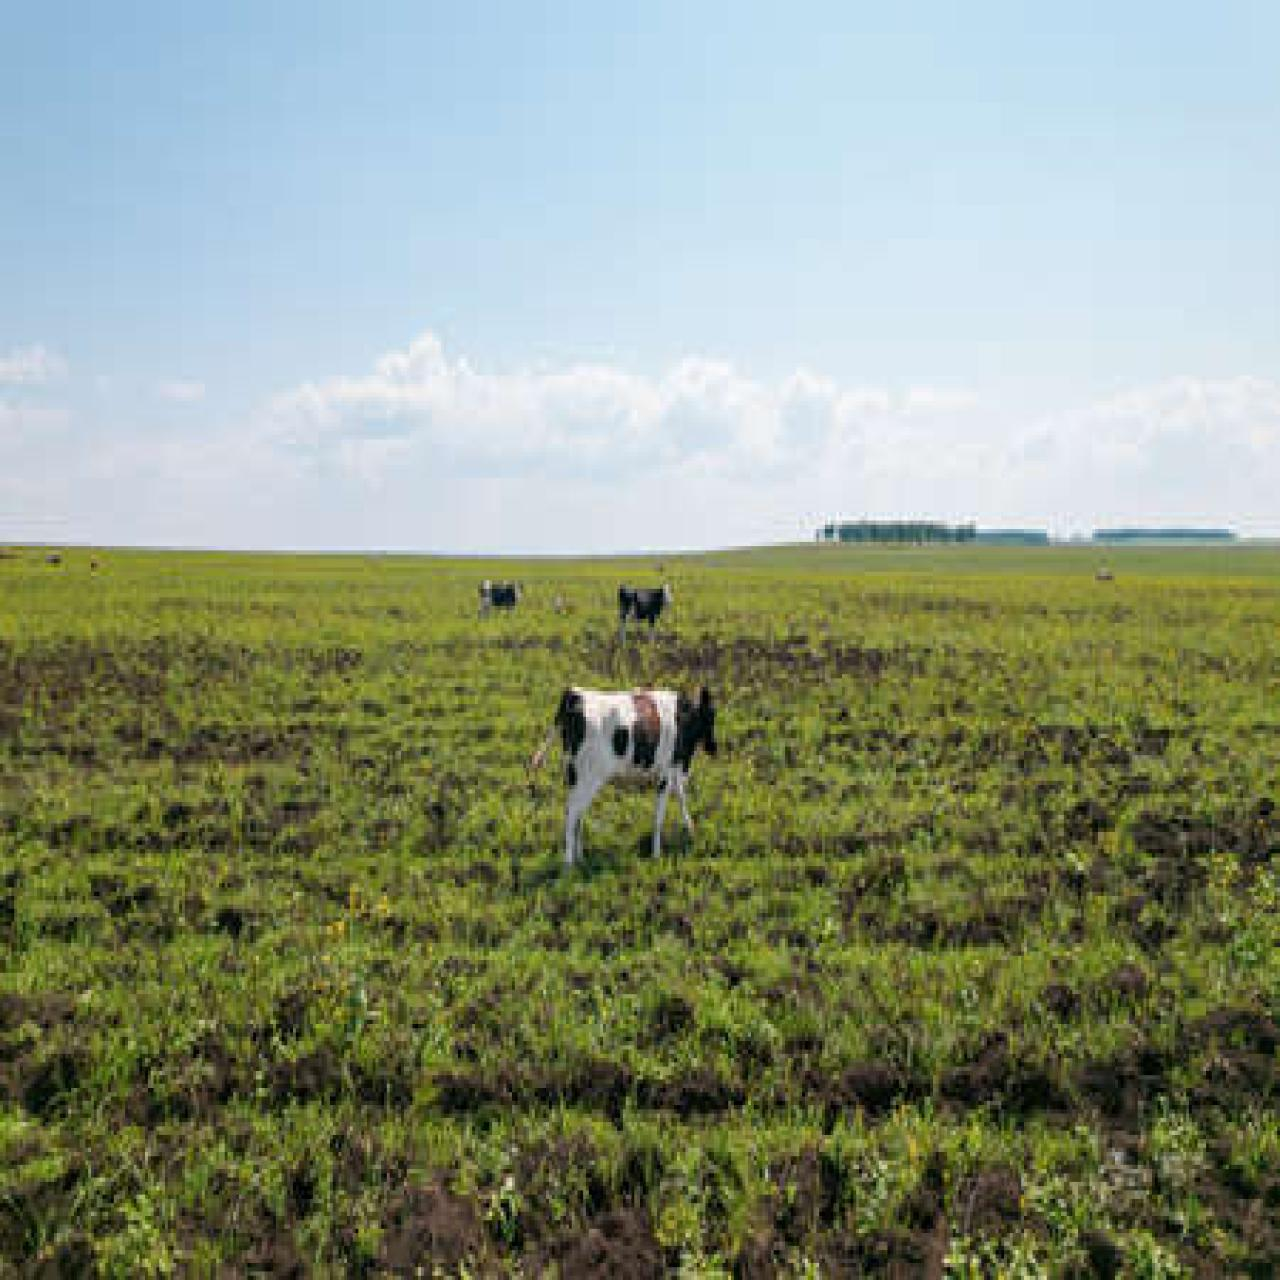cow: (550, 674, 719, 858), (615, 585, 673, 633), (478, 577, 524, 613)
